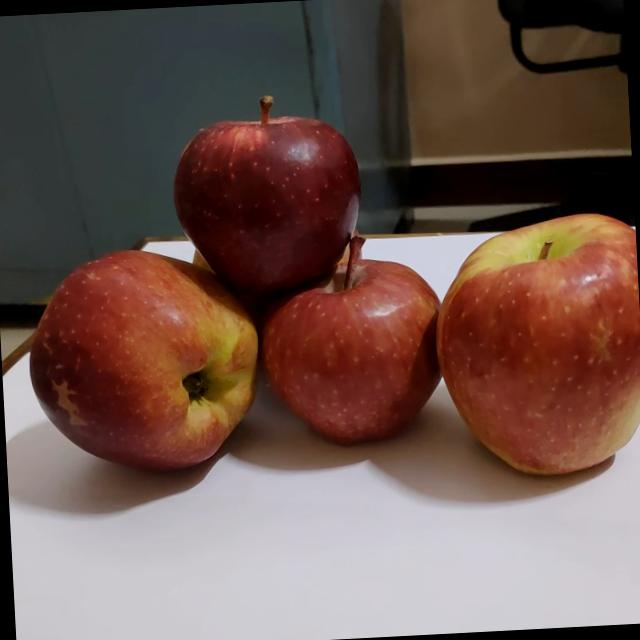apple: (23, 240, 270, 485), (432, 208, 640, 488), (164, 84, 372, 306), (255, 227, 452, 458), (185, 234, 234, 297)
